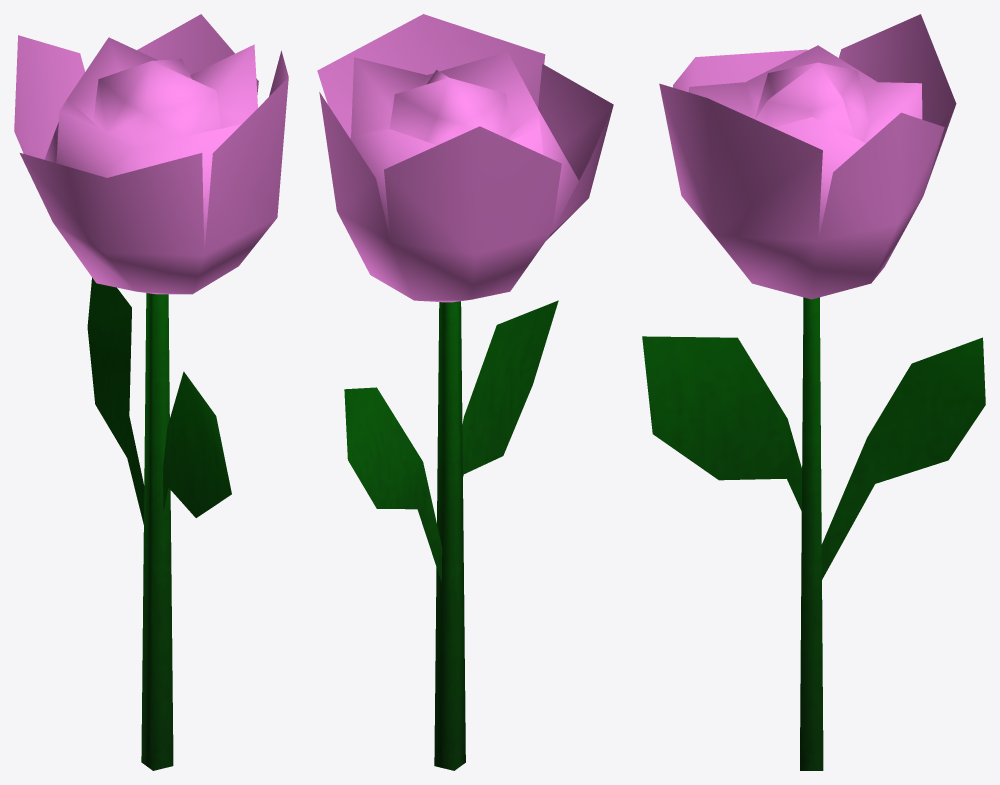
Rendered from rose.001.fbx.
The picture shows the model from 3 angles, left to right: view 1: azimuth 30°, elevation 25°; view 2: azimuth 150°, elevation 25°; view 3: azimuth 270°, elevation 25°; orthographic projection.
Visible parts, largest first — view 1: rose.001; view 2: rose.001; view 3: rose.001.
Part boxes in pixels (left/top/right/bottom): rose.001: left=14, top=14, right=288, bottom=770; rose.001: left=317, top=14, right=613, bottom=770; rose.001: left=642, top=14, right=985, bottom=770.
Bounding box in the file's own units: 0.198 × 0.4979 × 0.2182.
